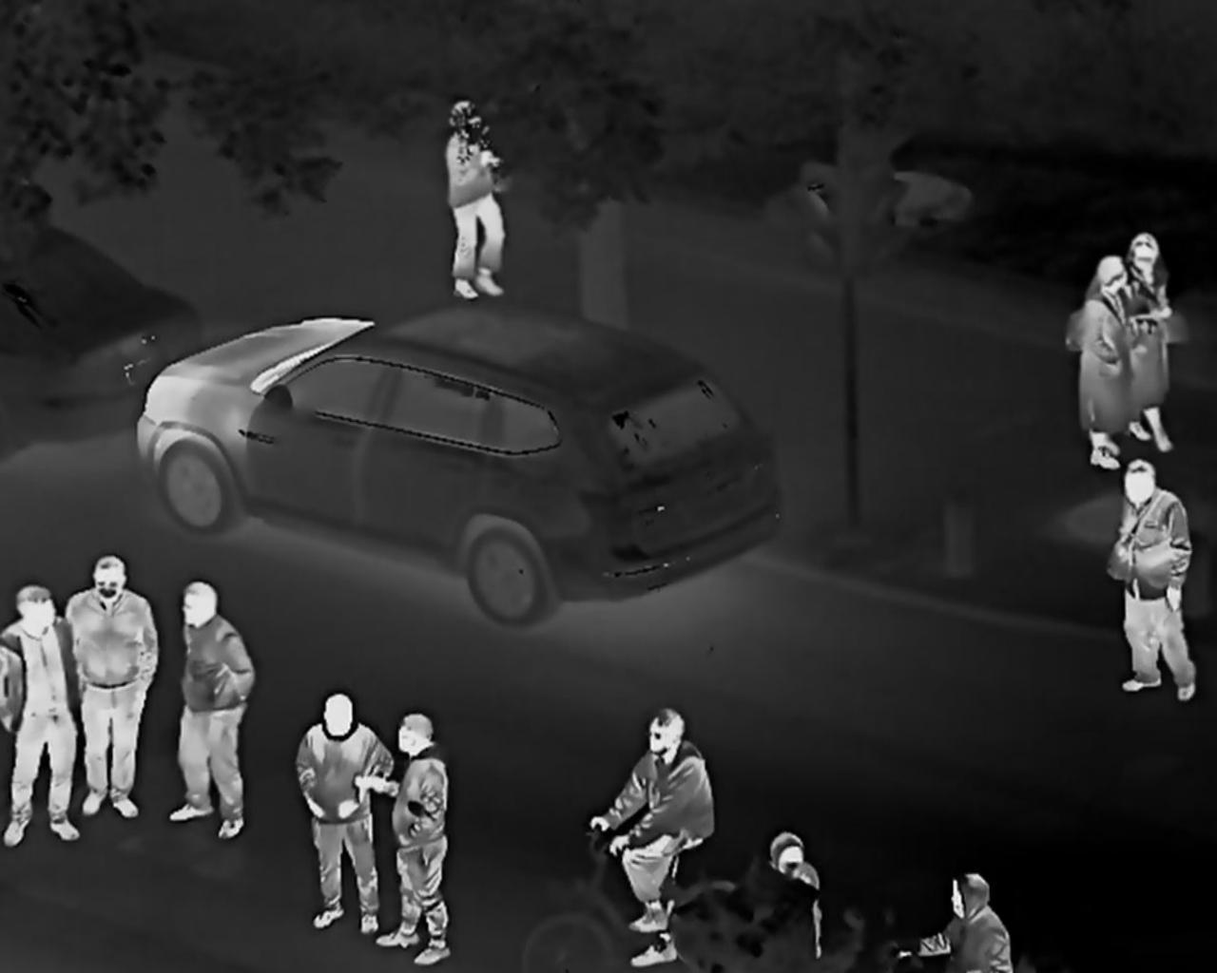person: (1086, 451, 1198, 727), (602, 692, 711, 973), (14, 566, 101, 897), (172, 565, 263, 840), (299, 668, 390, 937), (82, 548, 174, 805), (880, 864, 1016, 973), (438, 108, 510, 310), (401, 681, 445, 973), (1140, 227, 1194, 434), (1079, 258, 1135, 433), (772, 813, 838, 952)
